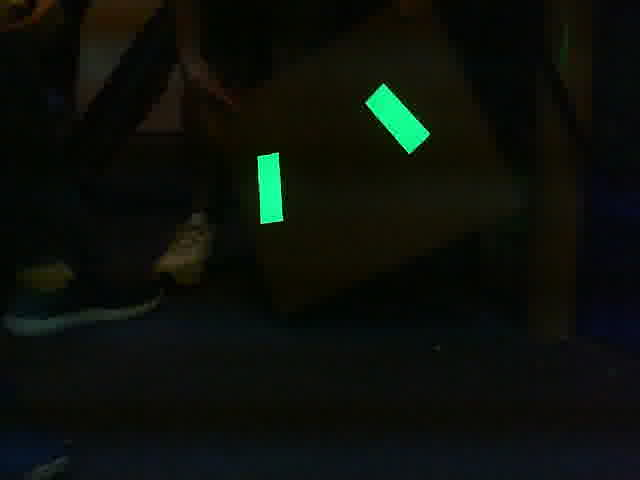target: (254, 80, 432, 223)
